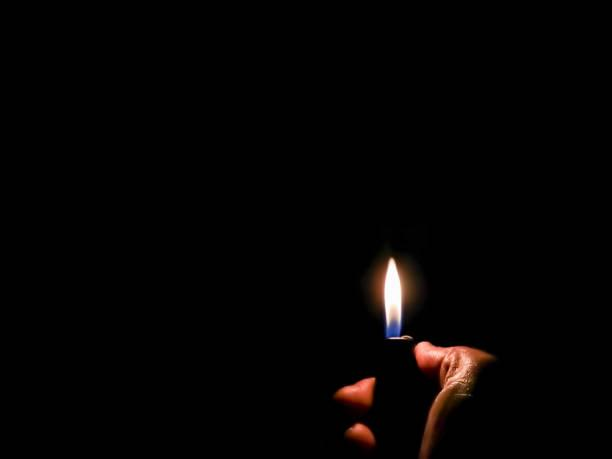Fire: (379, 254, 406, 335)
